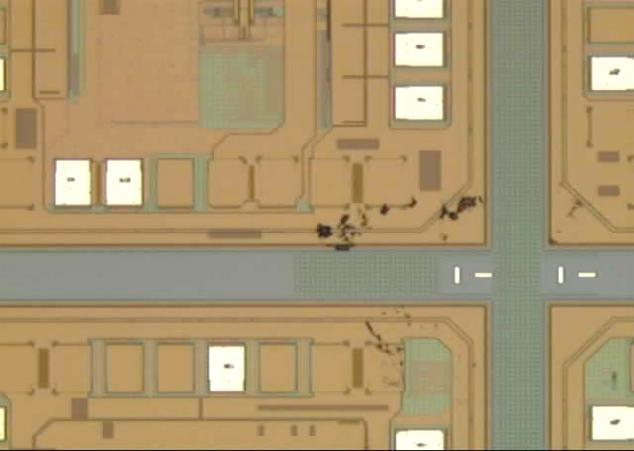PO CONTAMINATION: (311, 191, 591, 376)
